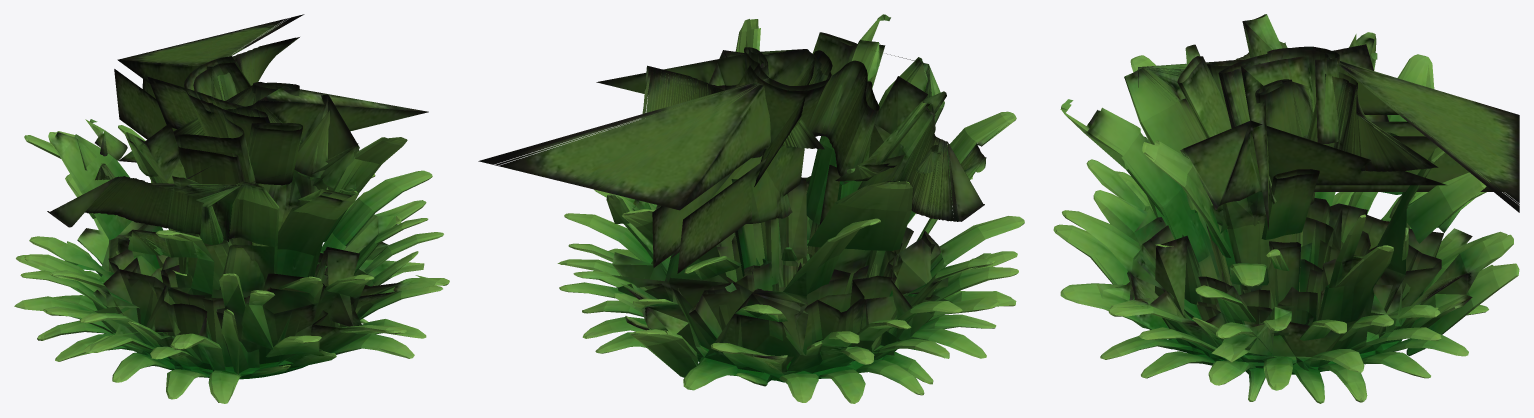
The model's file is green_shrub.glb.
The picture shows the model from 3 angles, left to right: view 1: azimuth 30°, elevation 25°; view 2: azimuth 150°, elevation 25°; view 3: azimuth 270°, elevation 25°; orthographic projection. The views are drawn at different scales.
Visible parts, largest first — view 1: tripo_node_3b11f528-b1f6-4c83-9c74-2668e2958a45; view 2: tripo_node_3b11f528-b1f6-4c83-9c74-2668e2958a45; view 3: tripo_node_3b11f528-b1f6-4c83-9c74-2668e2958a45.
Part boxes in pixels (x1=…): tripo_node_3b11f528-b1f6-4c83-9c74-2668e2958a45: x1=14, y1=14, x2=449, y2=403; tripo_node_3b11f528-b1f6-4c83-9c74-2668e2958a45: x1=478, y1=14, x2=1024, y2=403; tripo_node_3b11f528-b1f6-4c83-9c74-2668e2958a45: x1=1053, y1=14, x2=1519, y2=403.
Bounding box in the file's own units: 0.9999 × 0.6985 × 0.994.
1 material, 1 textured.
